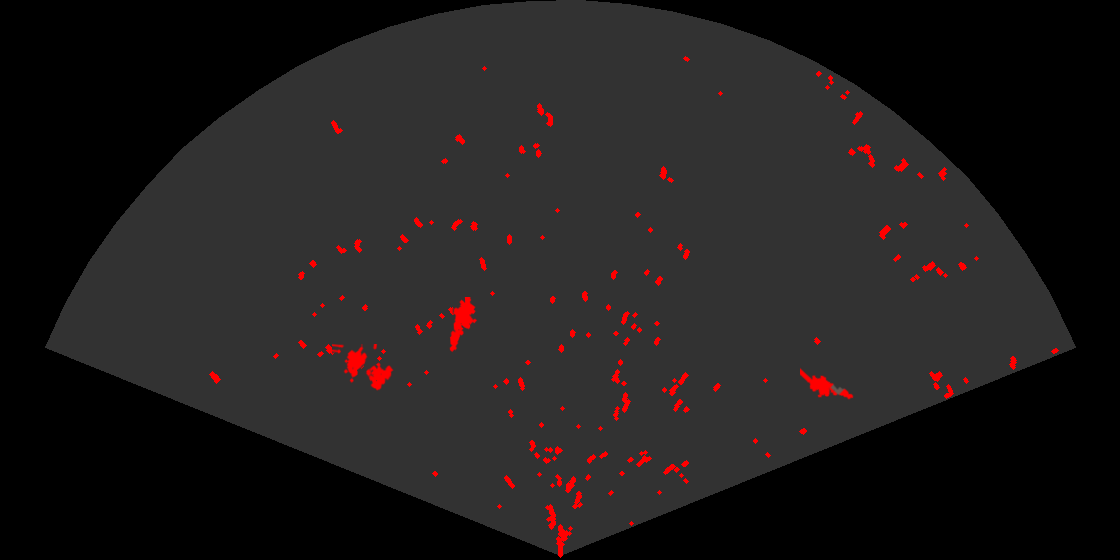cage: (332, 344, 395, 392)
frogman: (800, 366, 855, 401), (448, 297, 479, 353)
